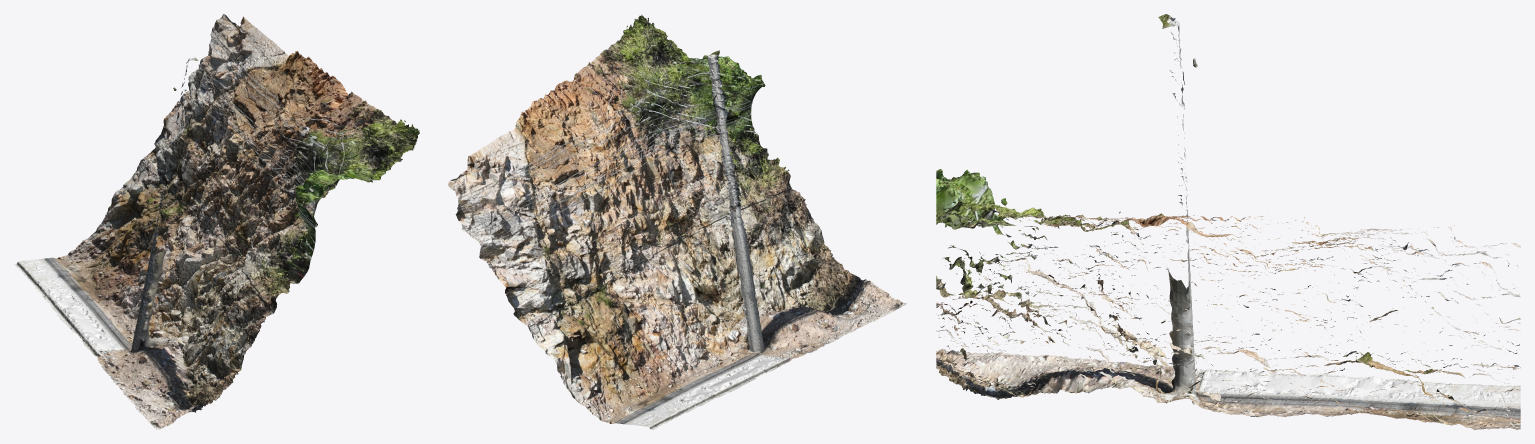
The picture shows the model from 3 angles, left to right: view 1: azimuth 30°, elevation 25°; view 2: azimuth 150°, elevation 25°; view 3: azimuth 270°, elevation 25°; orthographic projection. The views are drawn at different scales.
Size of the model in its own units: 11.72 by 12.28 by 15.26.
Materials: 3 (3 with a texture image).
